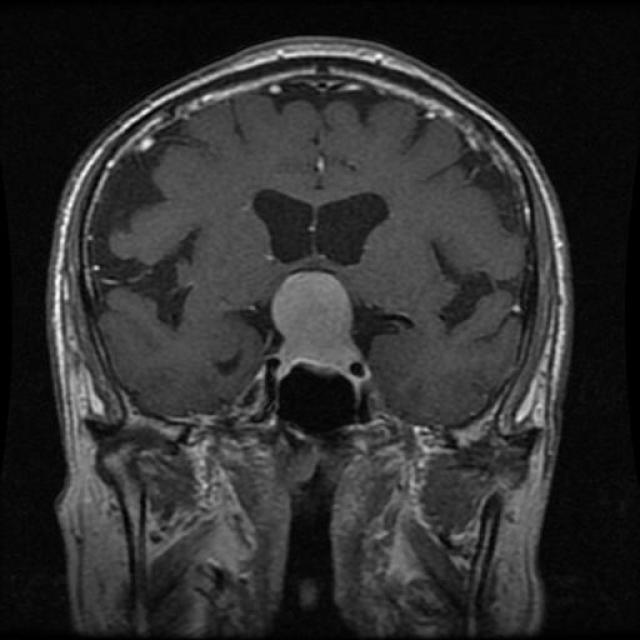pituitary: (262, 264, 382, 394)
